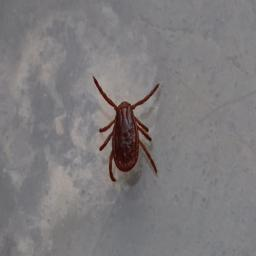Rhipicephalus sanguineus: (90, 76, 168, 184)
